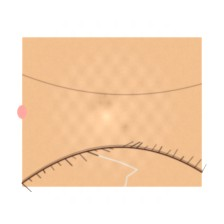foreign_body_visible: (107, 69, 144, 98)
